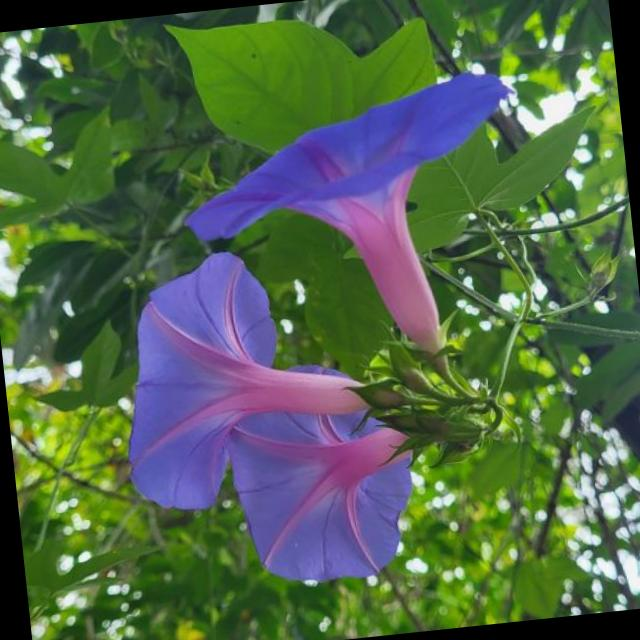ipomoea: (85, 62, 566, 606), (102, 229, 430, 606), (168, 62, 542, 384)
